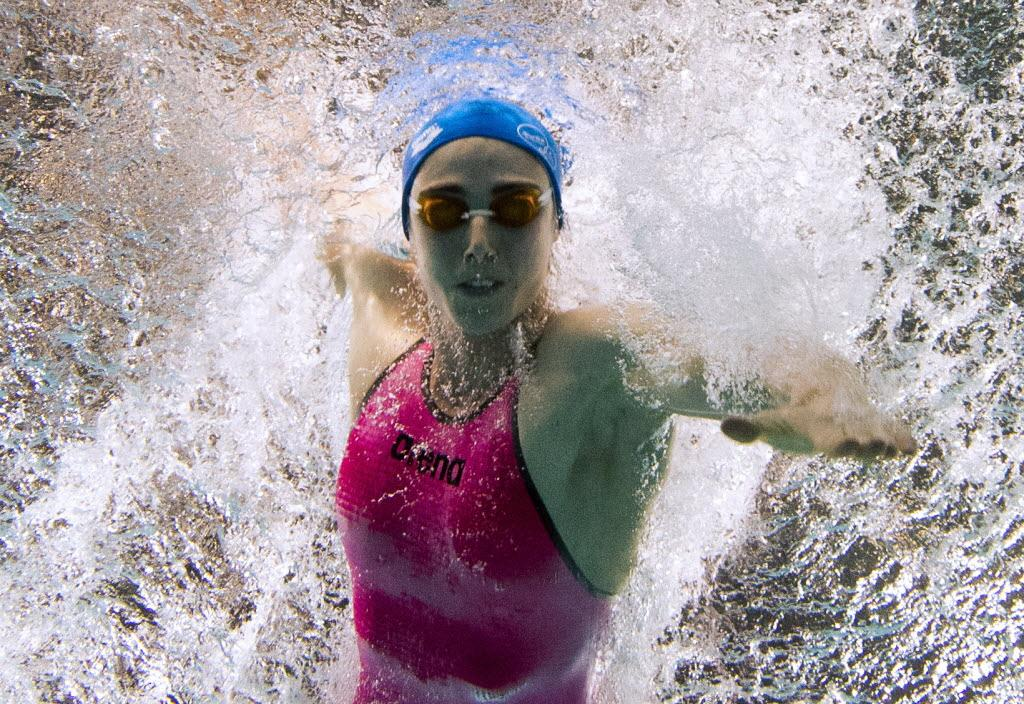face: (414, 144, 554, 324)
